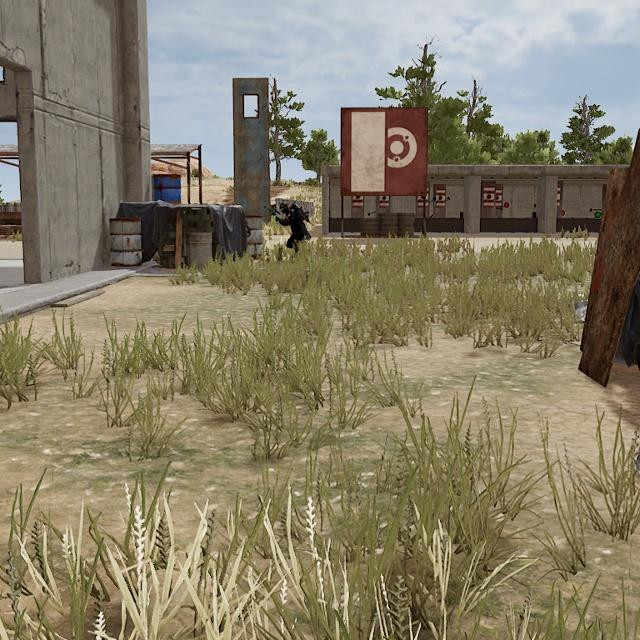head: (278, 202, 291, 216)
people: (276, 201, 309, 254)
